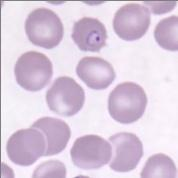Infected: (72, 17, 108, 52)
Uninfected: (23, 120, 72, 156), (108, 80, 147, 123), (102, 131, 142, 172), (24, 8, 64, 48), (46, 76, 85, 117), (14, 51, 52, 91), (6, 128, 45, 166), (70, 136, 112, 170), (112, 4, 150, 41), (75, 57, 115, 90), (141, 151, 178, 178), (154, 14, 178, 52)
